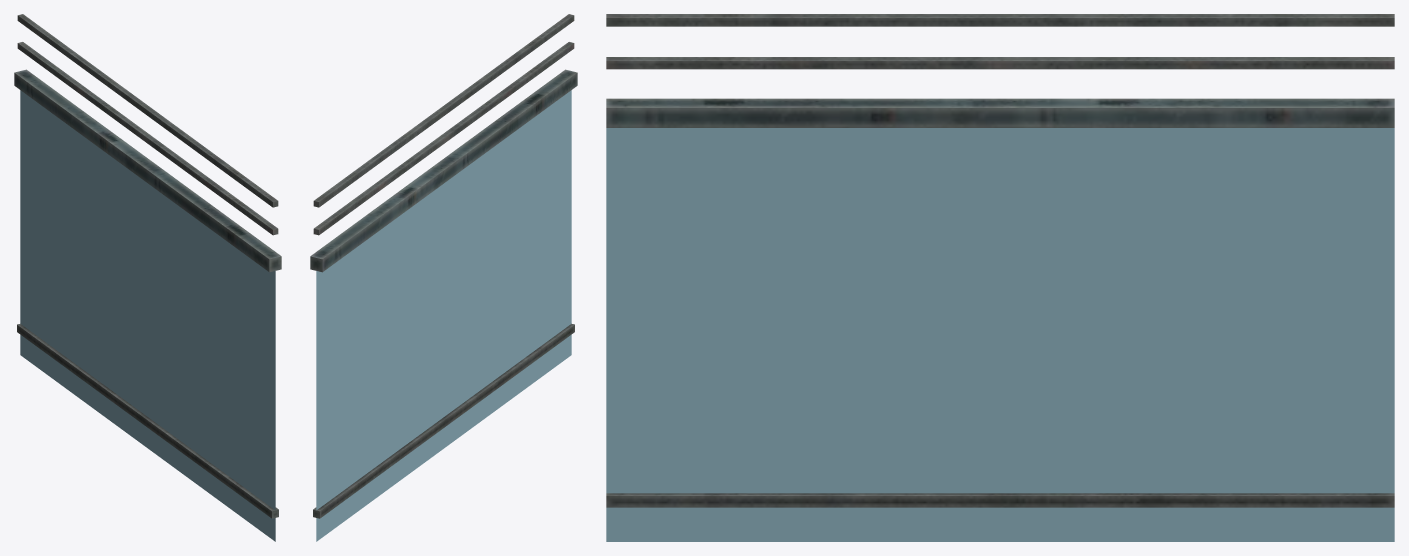
The model's file is fence_half.glb.
3 renders of one model, left to right at view 1: azimuth 30°, elevation 25°; view 2: azimuth 150°, elevation 25°; view 3: azimuth 270°, elevation 25°, orthographic. The views are drawn at different scales.
Visible parts, largest first — view 1: te_grounds_fence_half; view 2: te_grounds_fence_half; view 3: te_grounds_fence_half.
Boxes of the visible parts, left/top/right/bottom form: te_grounds_fence_half: left=14, top=14, right=281, bottom=541; te_grounds_fence_half: left=310, top=14, right=577, bottom=541; te_grounds_fence_half: left=606, top=14, right=1394, bottom=541.
Size of the model in its own units: 0.014 by 0.368 by 0.5.
2 materials, 1 textured.
